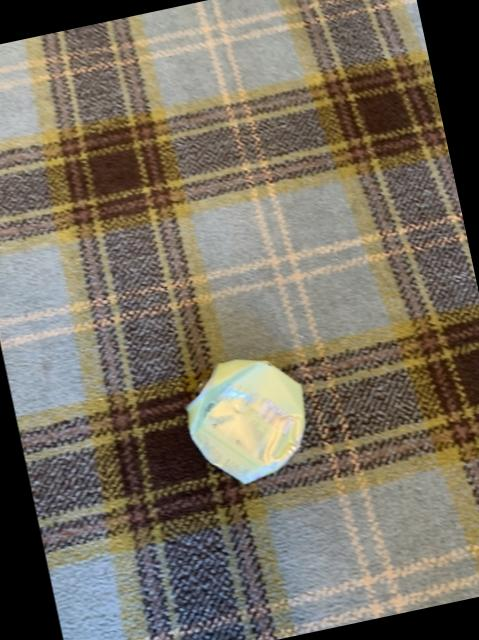metal: (188, 361, 305, 484)
